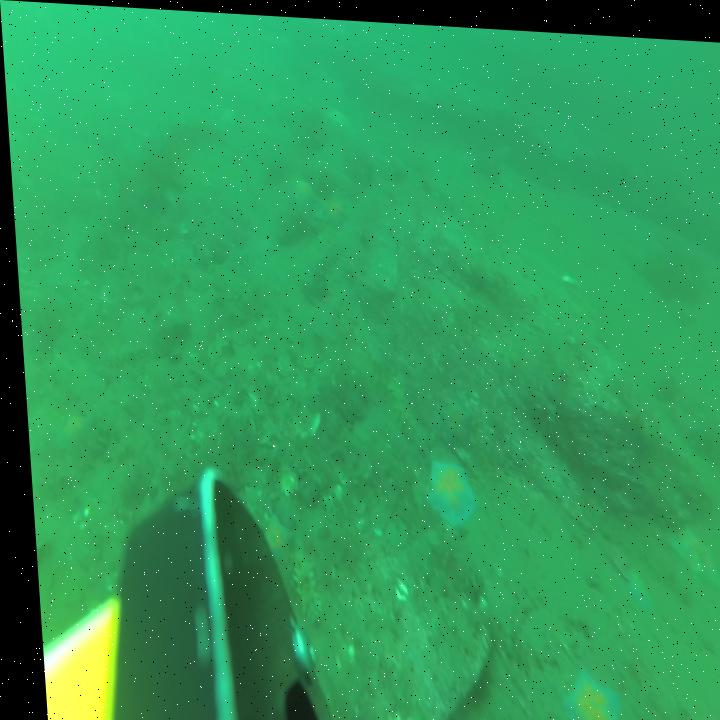holothurian: (383, 367, 423, 449), (284, 543, 316, 623), (100, 338, 145, 368)
scallop: (271, 350, 289, 376)
starfish: (551, 655, 617, 720), (418, 453, 471, 527), (664, 517, 716, 585), (431, 388, 469, 446), (253, 509, 287, 563), (53, 414, 88, 457), (619, 561, 642, 603), (291, 174, 317, 210), (323, 196, 345, 224)
